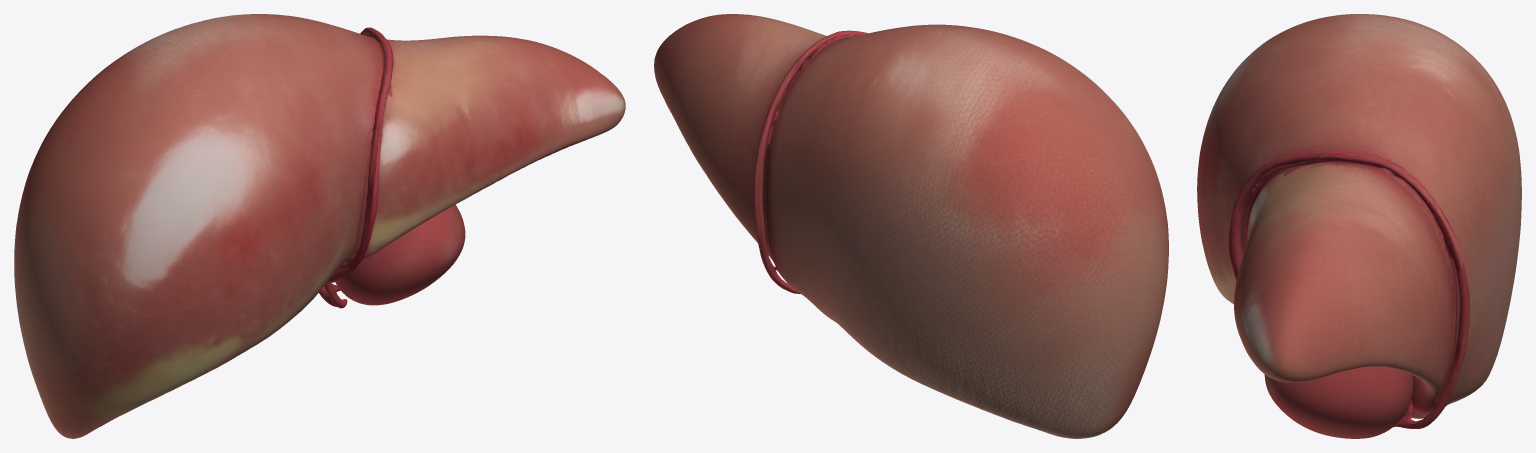
File: vet_v2_organ_cat_liver.glb
3 views of the same model, side by side, from view 1: azimuth 30°, elevation 25°; view 2: azimuth 150°, elevation 25°; view 3: azimuth 270°, elevation 25° (orthographic). The views are drawn at different scales.
Parts seen in each view (by area): view 1: model; view 2: model; view 3: model.
Boxes of the visible parts, x1=… form: model: x1=14, y1=14, x2=625, y2=438; model: x1=654, y1=14, x2=1168, y2=438; model: x1=1197, y1=14, x2=1521, y2=438.
Size of the model in its own units: 1.9 by 1.22 by 0.8806.
1 material, 1 textured.
